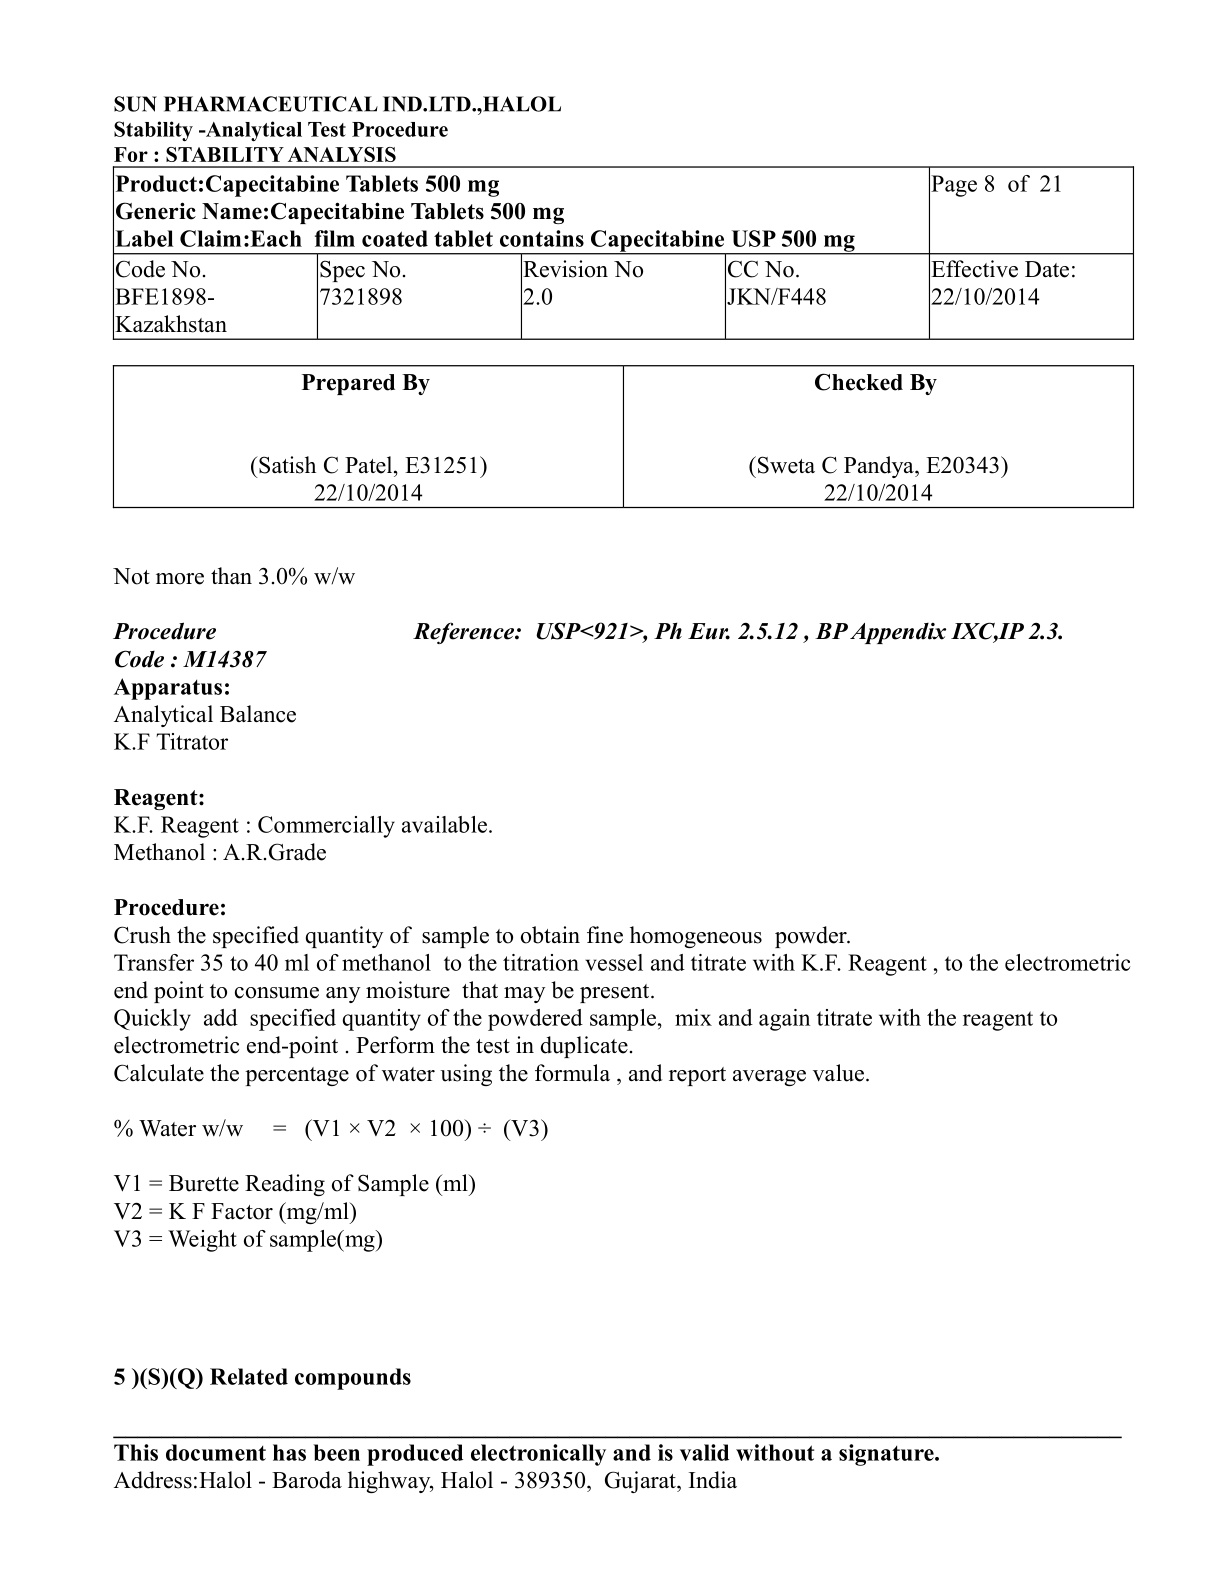merged_cells: (112, 165, 1137, 342)
partial_lined: (112, 364, 1137, 510)
